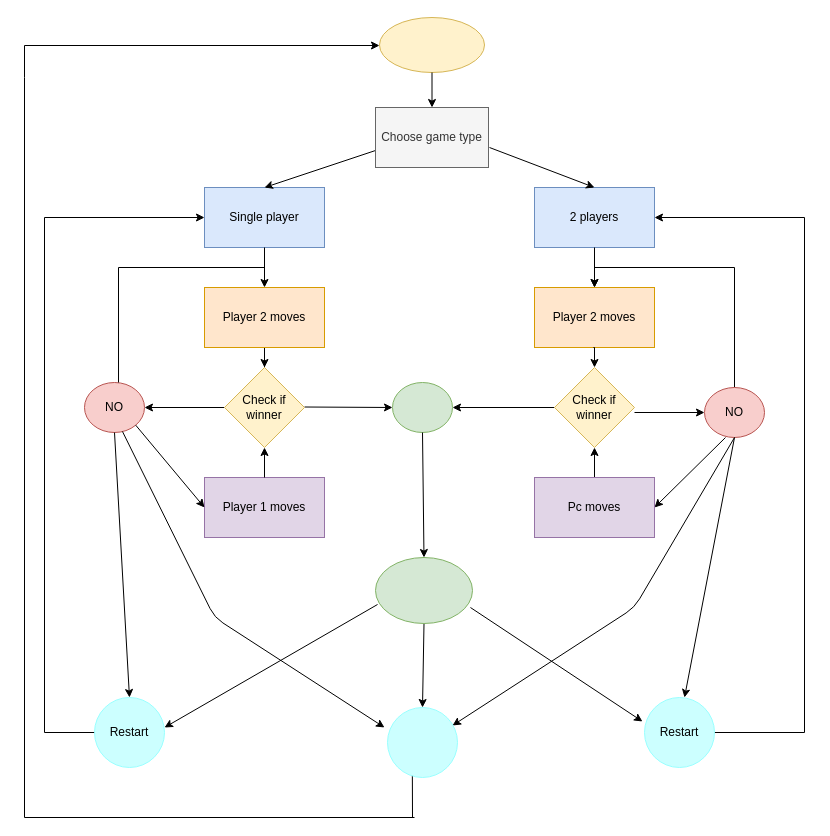
This 830x836 diagram has some shape labels left out. The shapes that lost their labels are listed below. From the top down, each one's centre as x and y in pixels, then its label:
(x=431, y=44): Start
(x=422, y=407): YES
(x=423, y=590): Player wins
(x=422, y=742): End game
